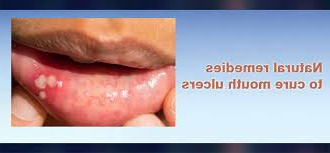Ulcer: (36, 73, 61, 103)
